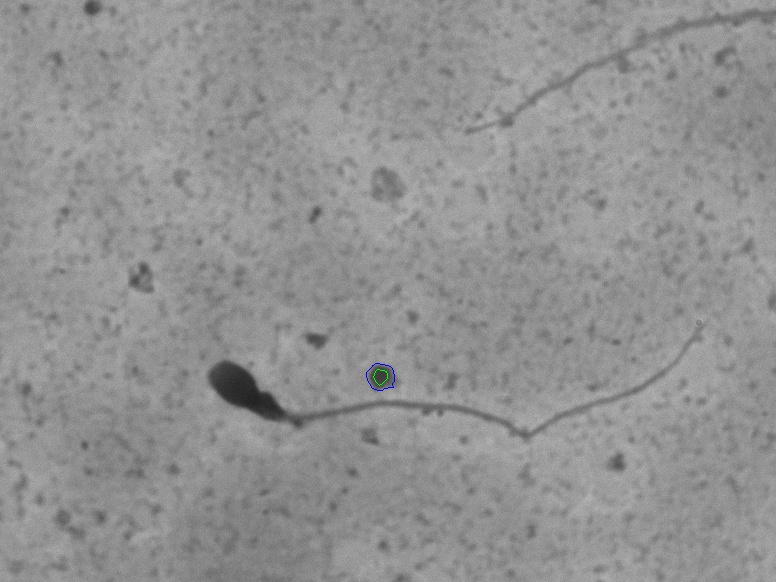Abnormal: (173, 314, 743, 467)
